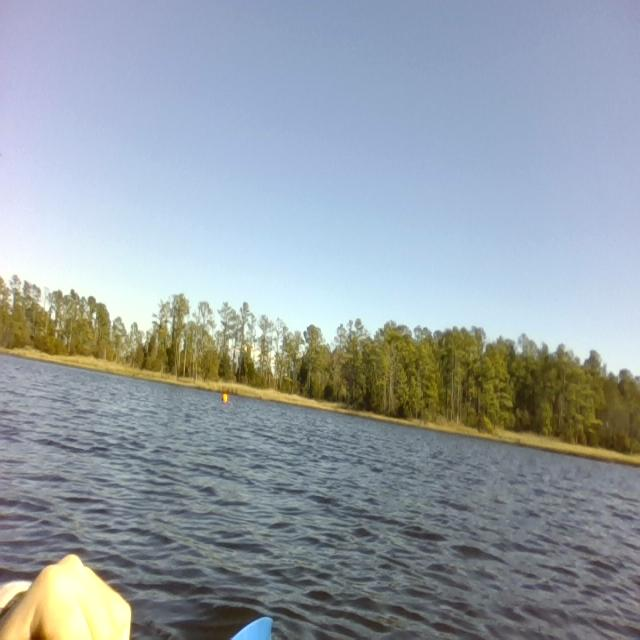Buoy: (216, 385, 232, 410)
